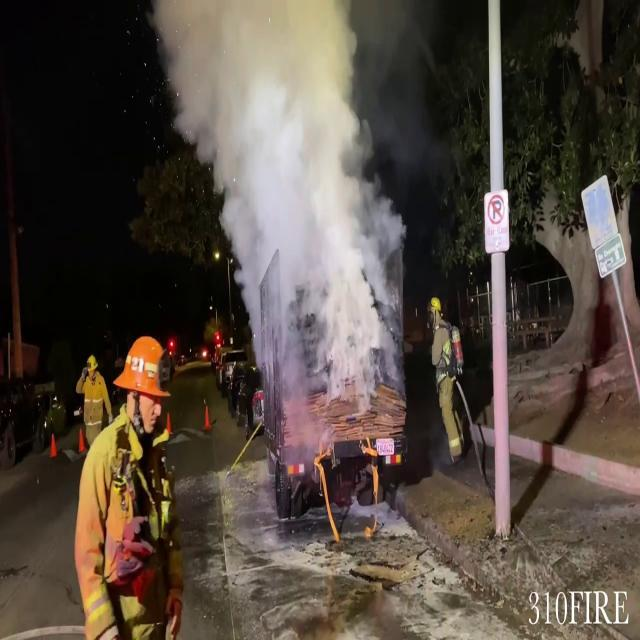Smoke: (188, 0, 413, 440)
